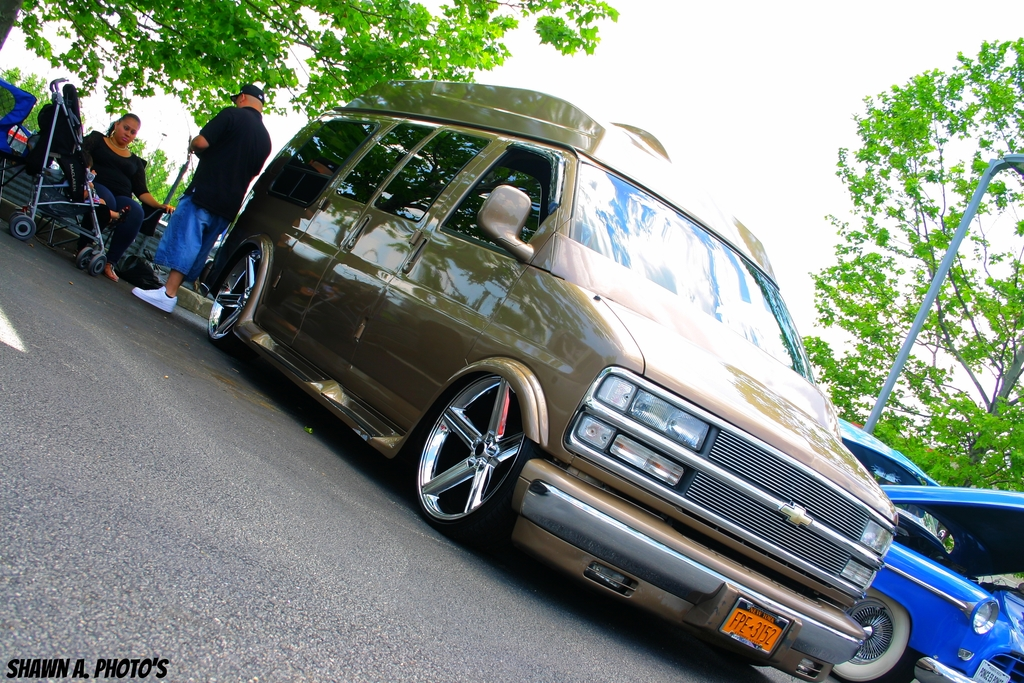cars: (835, 419, 1023, 682)
